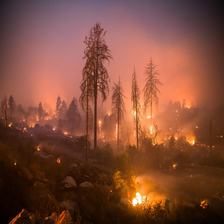fire: (97, 108, 178, 148), (107, 174, 168, 212)
